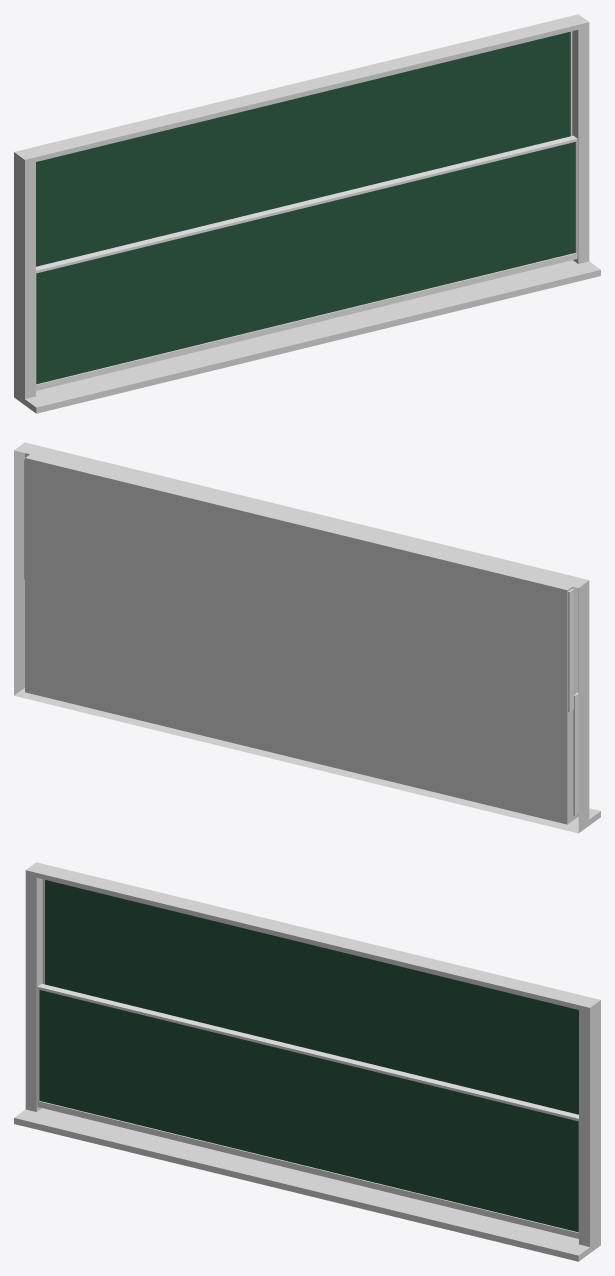
Rendered from BlackBoard.fbx.
3 renders of one model, top to bottom at view 1: azimuth 30°, elevation 25°; view 2: azimuth 150°, elevation 25°; view 3: azimuth 330°, elevation 25°, orthographic.
Visible parts, largest first — view 1: 立方体.015, 平面.006; view 2: 平面.006, 立方体.015; view 3: 立方体.015, 平面.006.
Part boxes in pixels (x1,y1,x2,y2): 立方体.015: (36,31,577,390); 平面.006: (14,14,600,413); 平面.006: (14,442,600,833); 立方体.015: (24,459,578,815); 立方体.015: (37,879,578,1238); 平面.006: (14,862,600,1261).
Size of the model in its own units: 2910 by 1208 by 200.
